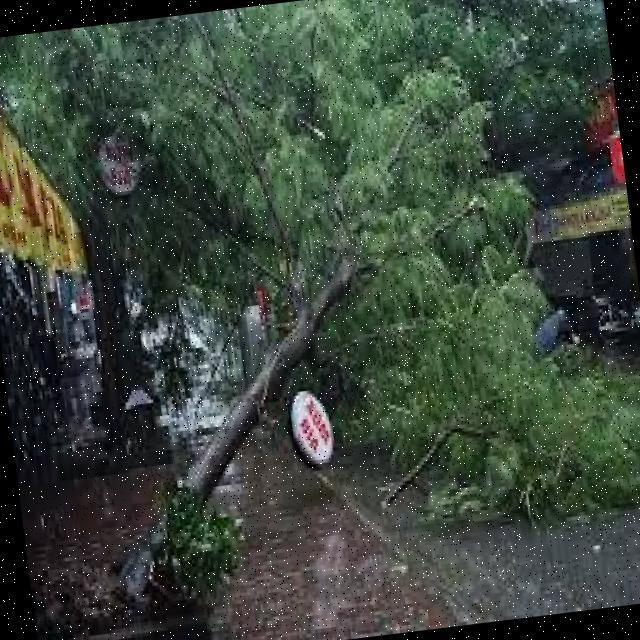fallen_object: (0, 170, 521, 640)
